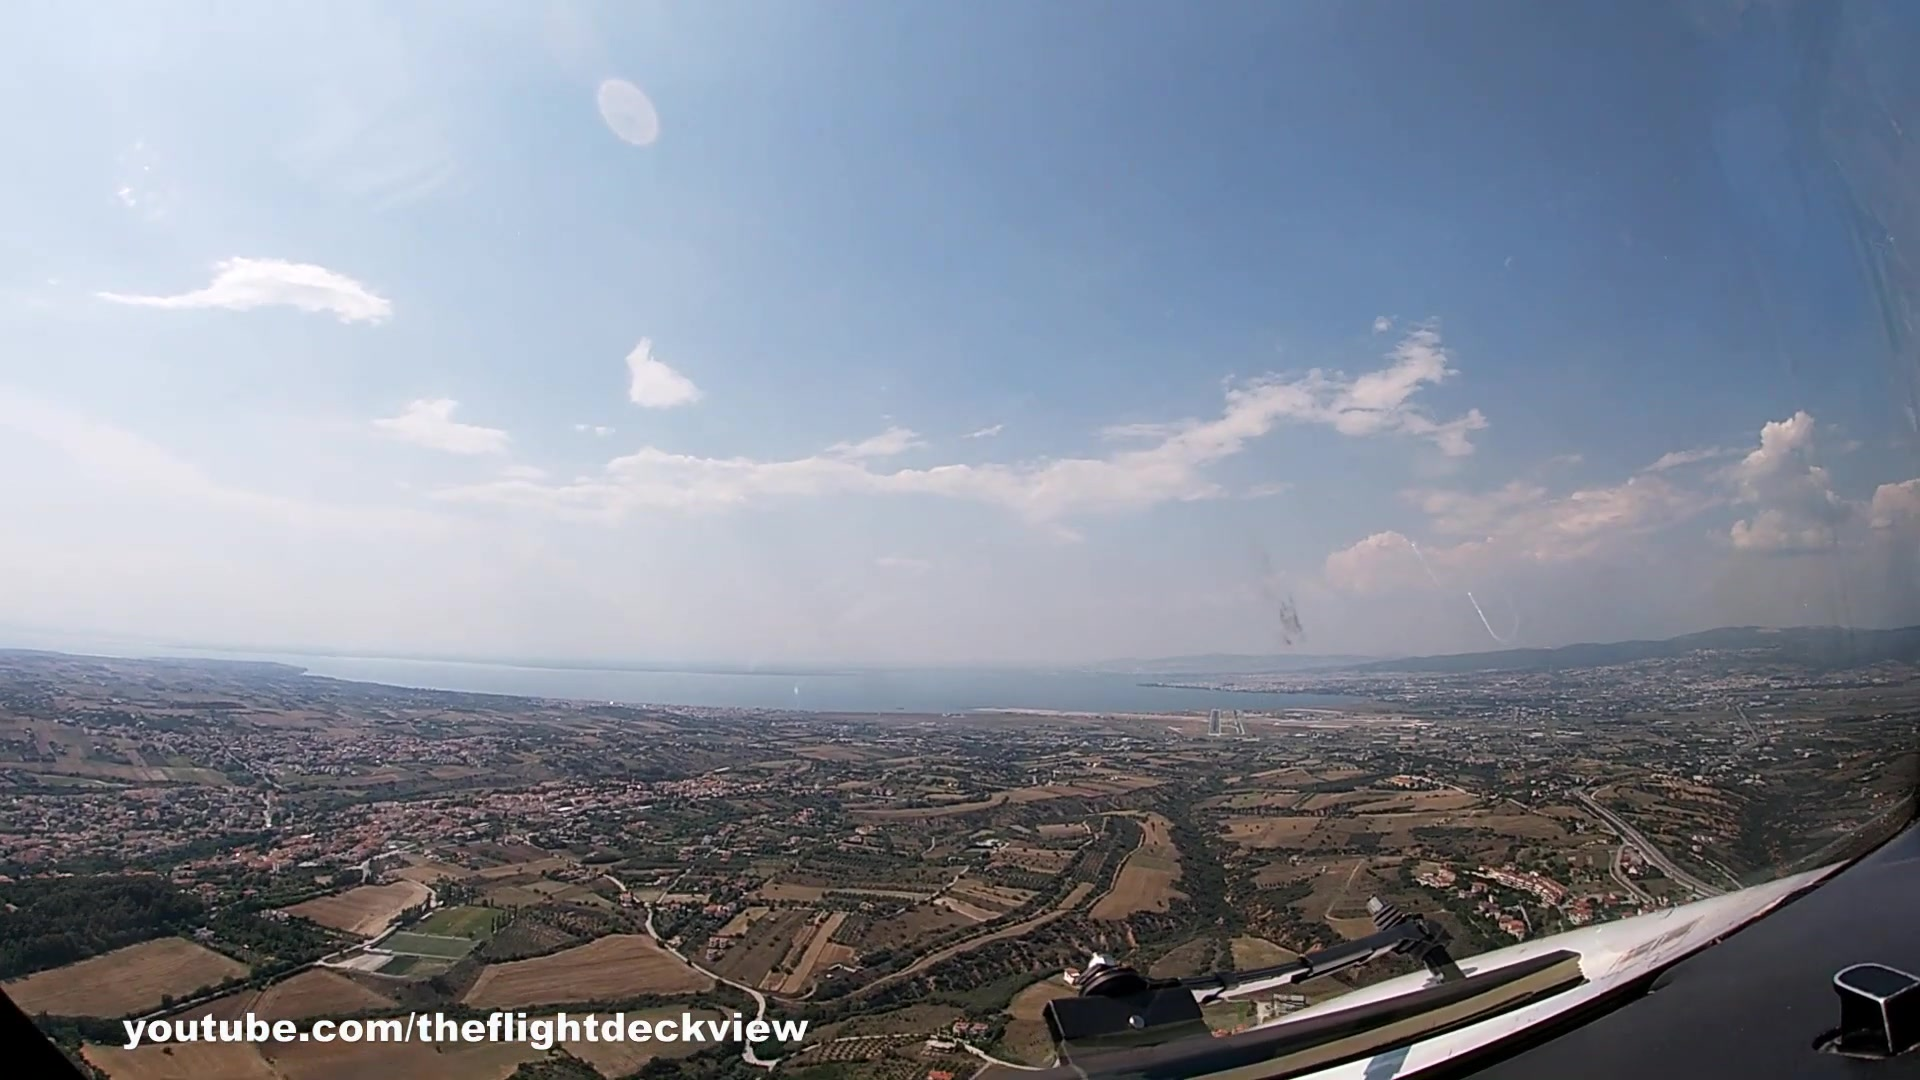runway: (1204, 708, 1224, 736)
